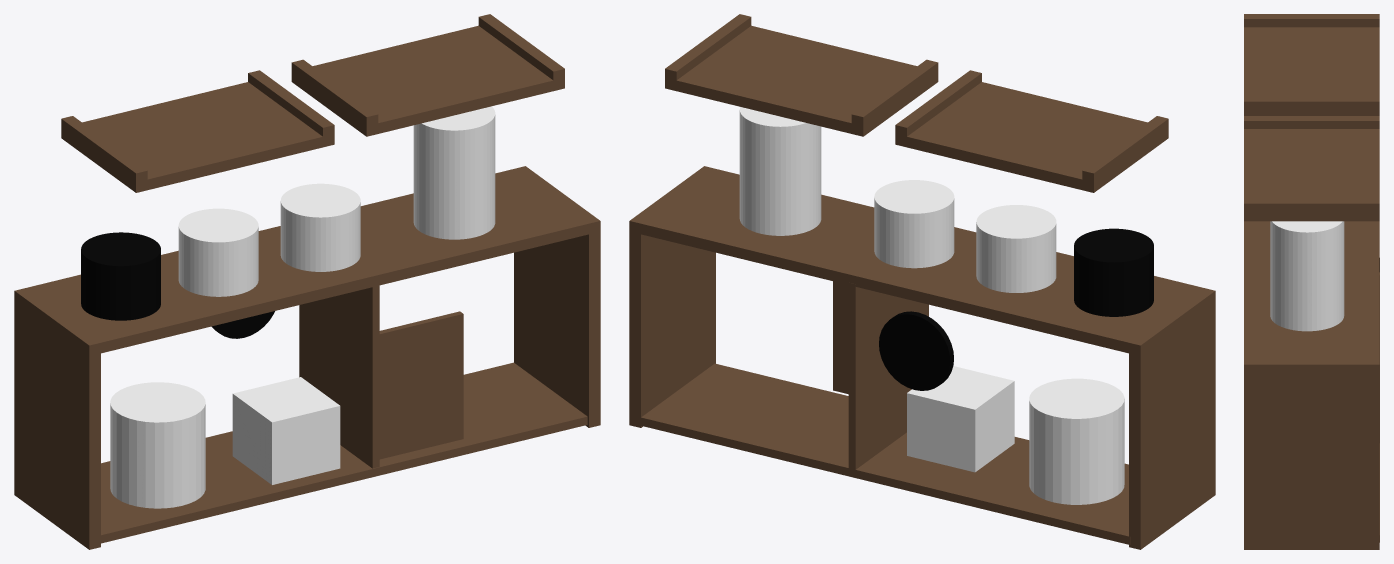
The model's file is kitchen.fbx.
The picture shows the model from 3 angles, left to right: view 1: azimuth 30°, elevation 25°; view 2: azimuth 150°, elevation 25°; view 3: azimuth 270°, elevation 25°; orthographic projection. The views are drawn at different scales.
Parts seen in each view (by area): view 1: Cube.023, Cube.034, Cube.025, Cube.108, Cylinder.034, Cube.110, Cube.107, Cylinder.010, Cube.109, Cylinder.029, Cylinder.030, Cylinder.028 (+1 smaller); view 2: Cube.023, Cube.108, Cube.034, Cube.025, Cylinder.034, Cylinder.010, Cube.109, Cube.107, Cylinder.030, Cylinder.029, Cylinder.028, Cylinder.005 (+1 smaller); view 3: Cube.023, Cube.034, Cube.025, Cylinder.010.
Part boxes in pixels (x1=…): Cube.023: x1=14, y1=166, x2=600, y2=549; Cube.034: x1=291, y1=14, x2=564, y2=136; Cube.025: x1=61, y1=70, x2=334, y2=192; Cube.108: x1=101, y1=362, x2=587, y2=543; Cylinder.034: x1=110, y1=382, x2=205, y2=508; Cube.110: x1=379, y1=311, x2=463, y2=459; Cube.107: x1=299, y1=285, x2=379, y2=468; Cylinder.010: x1=413, y1=106, x2=495, y2=239; Cube.109: x1=232, y1=377, x2=340, y2=484; Cylinder.029: x1=178, y1=208, x2=258, y2=296; Cylinder.030: x1=280, y1=183, x2=360, y2=271; Cylinder.028: x1=81, y1=232, x2=160, y2=320; Cube.023: x1=629, y1=166, x2=1215, y2=549; Cube.108: x1=640, y1=363, x2=1130, y2=544; Cube.034: x1=665, y1=14, x2=938, y2=136; Cube.025: x1=895, y1=70, x2=1168, y2=192; Cylinder.034: x1=1029, y1=378, x2=1124, y2=504; Cylinder.010: x1=739, y1=107, x2=821, y2=235; Cube.109: x1=907, y1=366, x2=1014, y2=472; Cube.107: x1=848, y1=282, x2=928, y2=469; Cylinder.030: x1=874, y1=180, x2=954, y2=268; Cylinder.029: x1=976, y1=205, x2=1056, y2=292; Cylinder.028: x1=1074, y1=228, x2=1153, y2=316; Cylinder.005: x1=879, y1=311, x2=953, y2=390; Cube.023: x1=1244, y1=221, x2=1379, y2=549; Cube.034: x1=1244, y1=116, x2=1379, y2=221; Cube.025: x1=1244, y1=14, x2=1379, y2=115; Cylinder.010: x1=1270, y1=221, x2=1344, y2=331.
Bounding box in the file's own units: 227 × 155 × 57.67.
